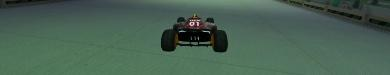Car: (160, 14, 228, 52)
grass: (0, 0, 389, 74)
obstacles-Borders: (273, 0, 389, 39)
